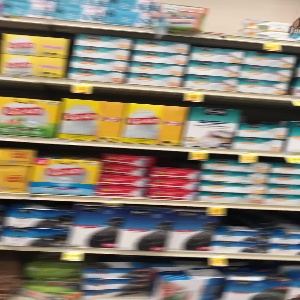void: (202, 1, 242, 36)
